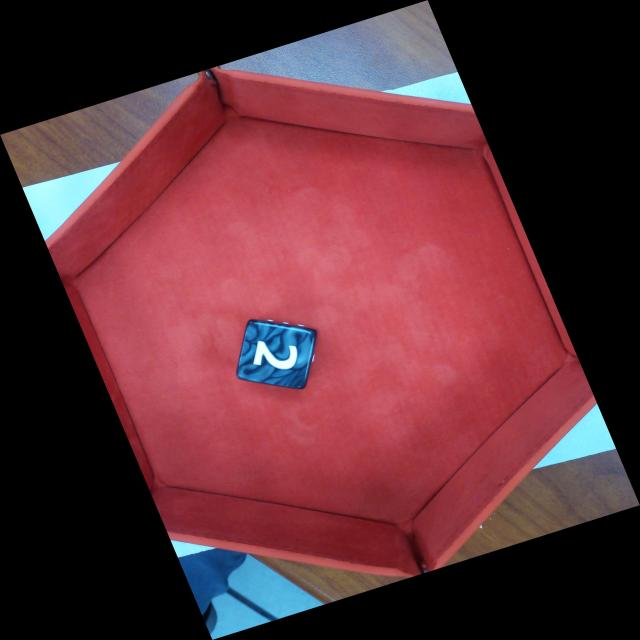dice: (235, 318, 318, 390)
